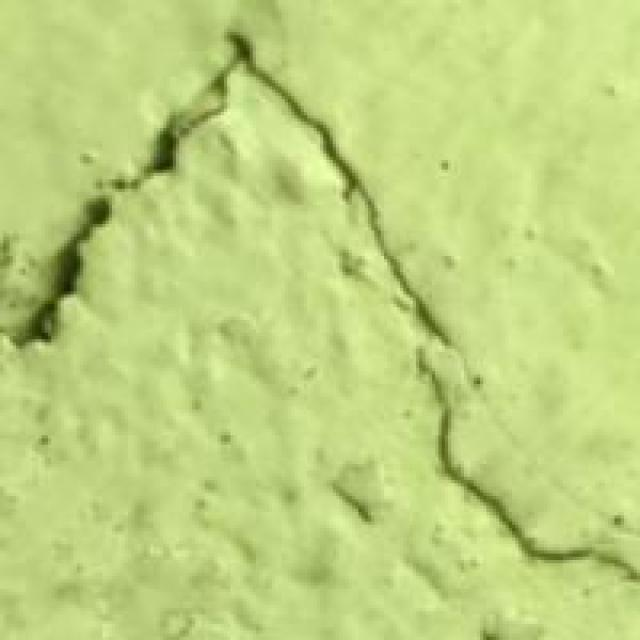Crack: (9, 37, 346, 398)
